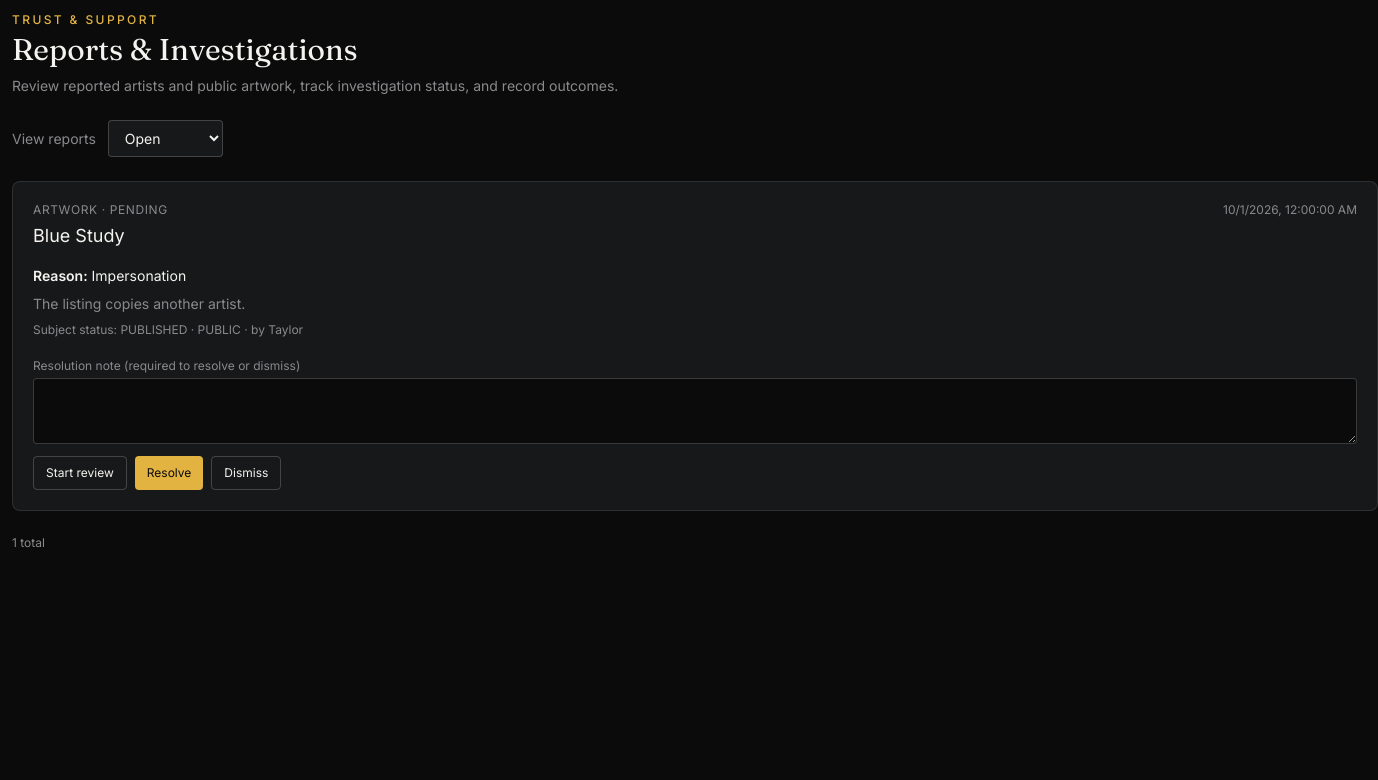
Scenario: admin reports page › requires a resolution note and refreshes after a successful decision
Expected: the heading "Blue Study" is shown, [33, 225, 125, 246]
Click the button "Resolve" at (169, 473), box [135, 456, 203, 490]
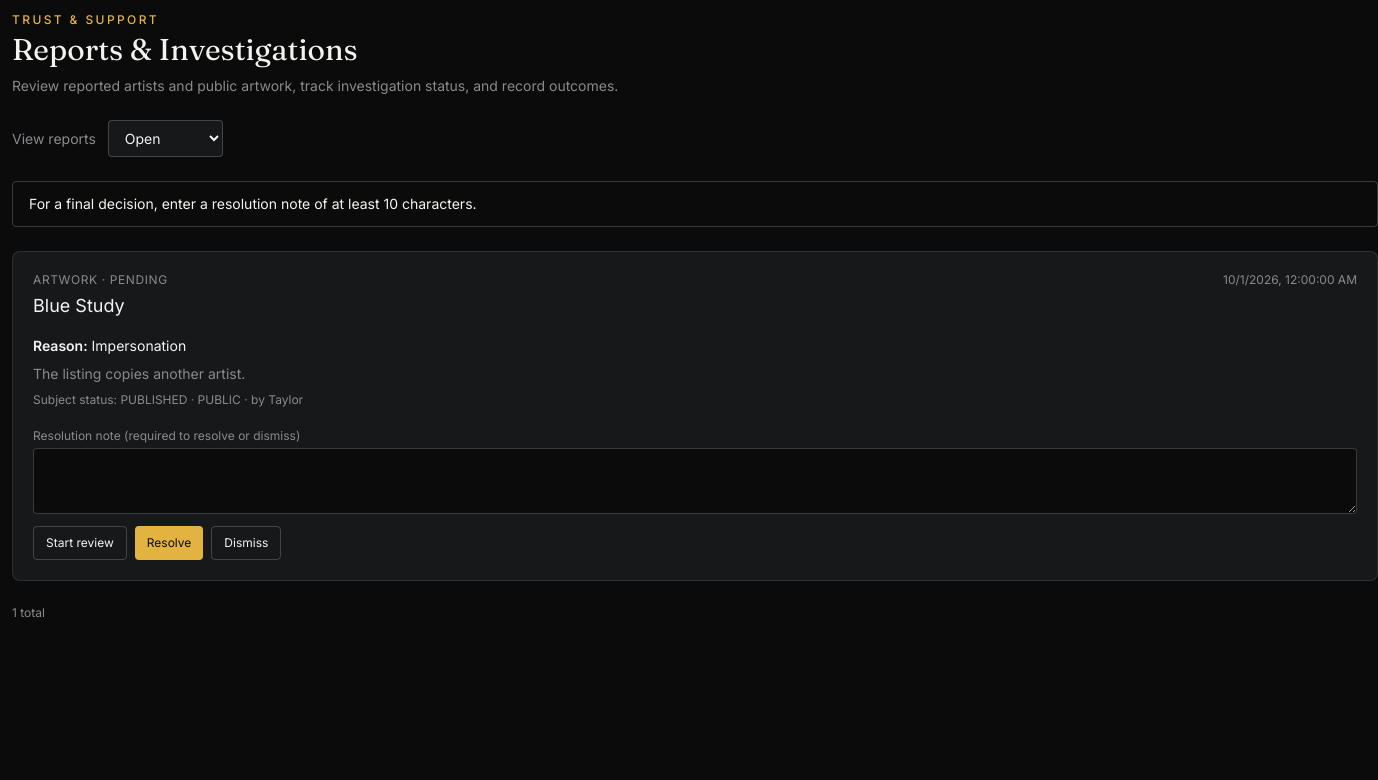
Expected: the text "For a final decision, enter a resolution note of at least 10 characters." is shown, [12, 181, 1377, 227]
Type "Confirmed impersonation." into the text box labelled "Resolution note (required to resolve or dismiss)" at (695, 481), box [33, 448, 1357, 514]
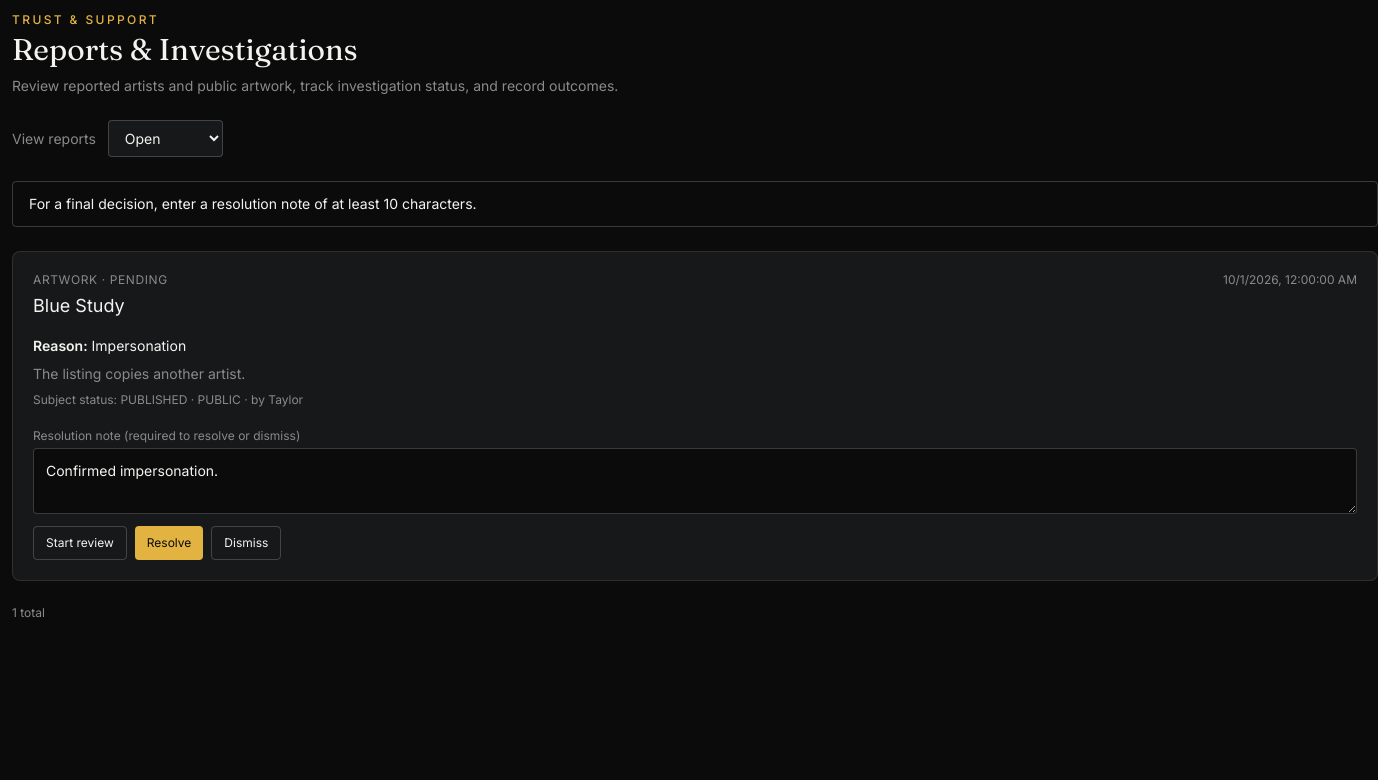
Click the button "Resolve" at (169, 543), box [135, 526, 203, 560]
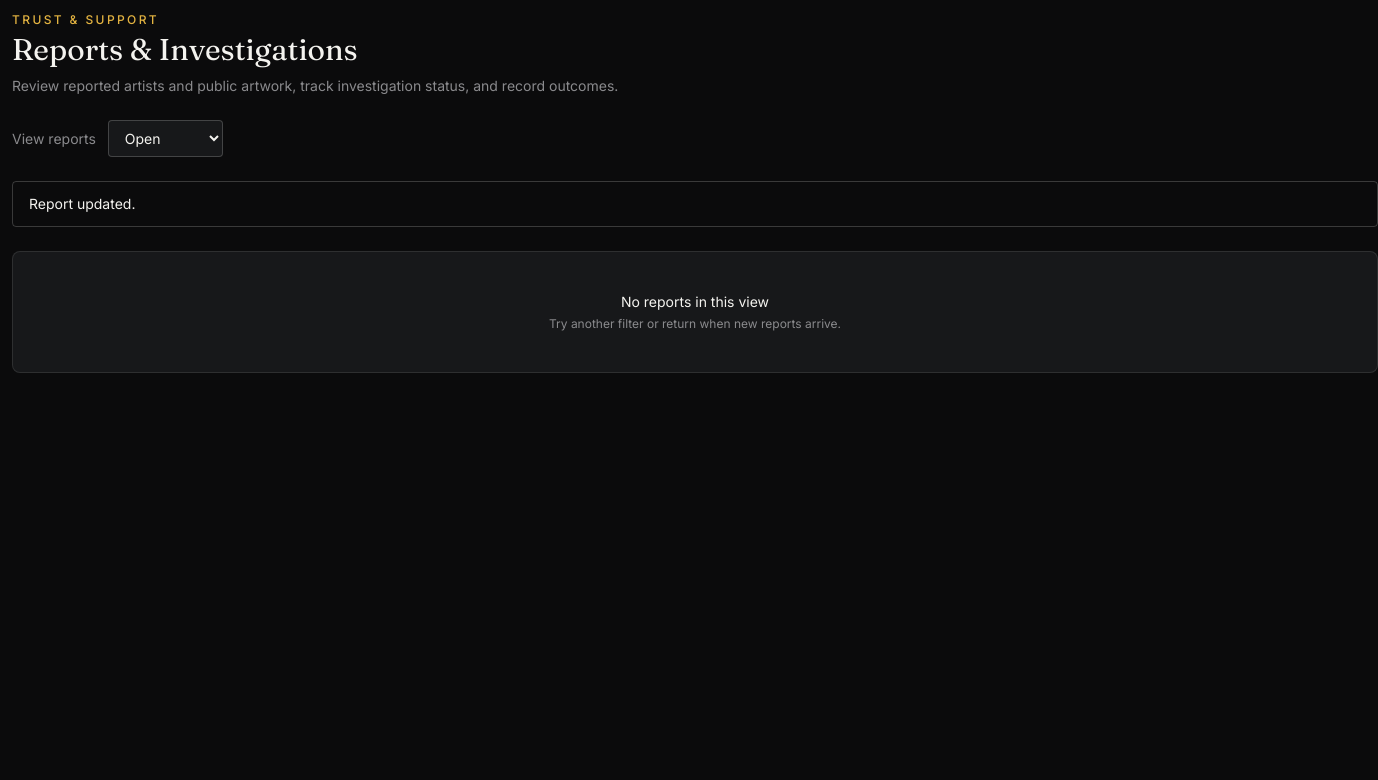
Expected: the text "No reports in this view" is shown, [621, 293, 769, 310]
